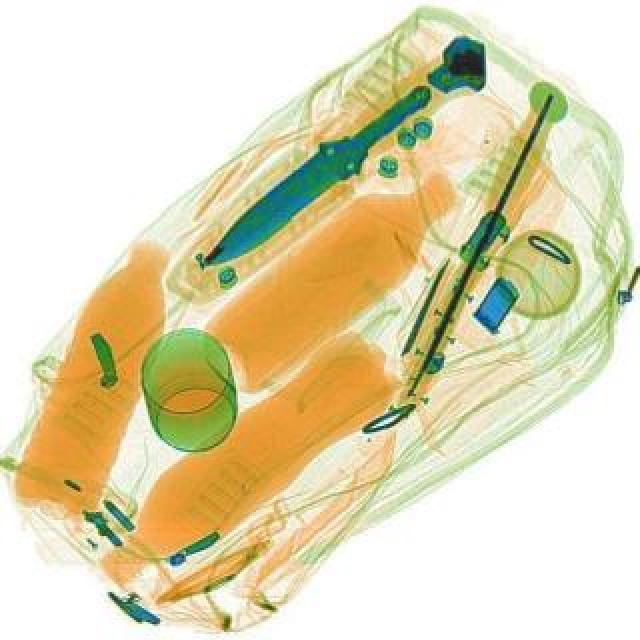knife: (180, 68, 446, 284), (392, 88, 560, 404)
